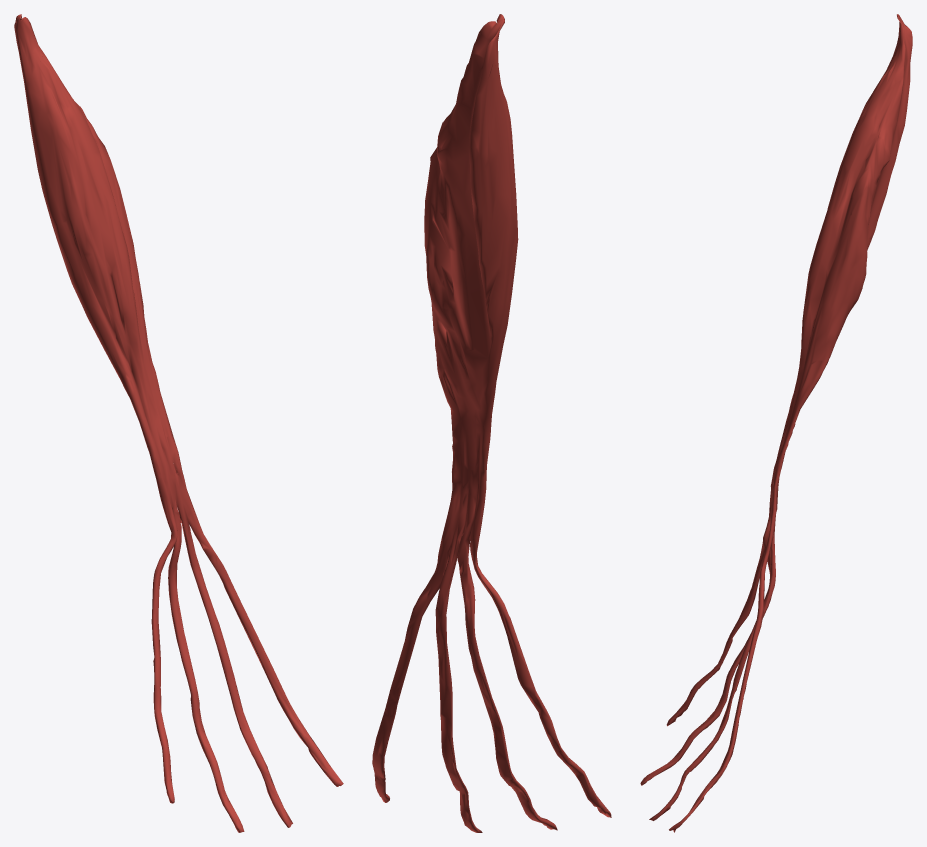
Rendered from musculos-flexor-digitorum-profundus-l.glb.
3 renders of one model, left to right at view 1: azimuth 30°, elevation 25°; view 2: azimuth 150°, elevation 25°; view 3: azimuth 270°, elevation 25°, orthographic. The views are drawn at different scales.
Visible parts, largest first — view 1: Flexor digitorum profundus.l; view 2: Flexor digitorum profundus.l; view 3: Flexor digitorum profundus.l.
Boxes of the visible parts, x1,y1,x2,y2 form: Flexor digitorum profundus.l: (14,14,343,832); Flexor digitorum profundus.l: (372,14,611,832); Flexor digitorum profundus.l: (640,14,912,832).
Bounding box in the file's own units: 0.1065 × 0.365 × 0.122.
